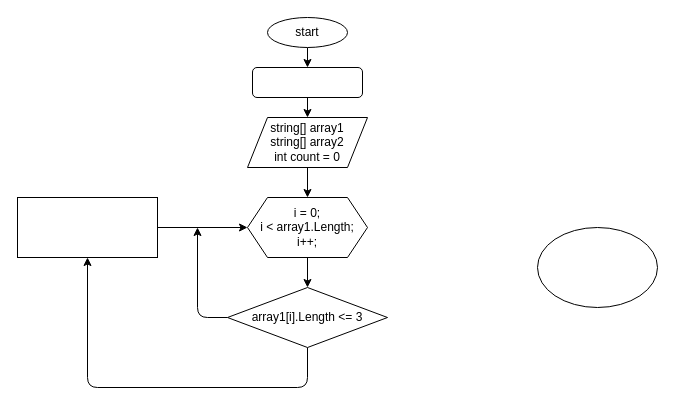
The diagram is 675 pixels wide and 413 high, and some of its shapes have lost their labels. Each missing label, with the centre of its shape:
"array2[count] = array1[i]; count++;" goes at [87,227].
"SortedArray" goes at [307,82].
